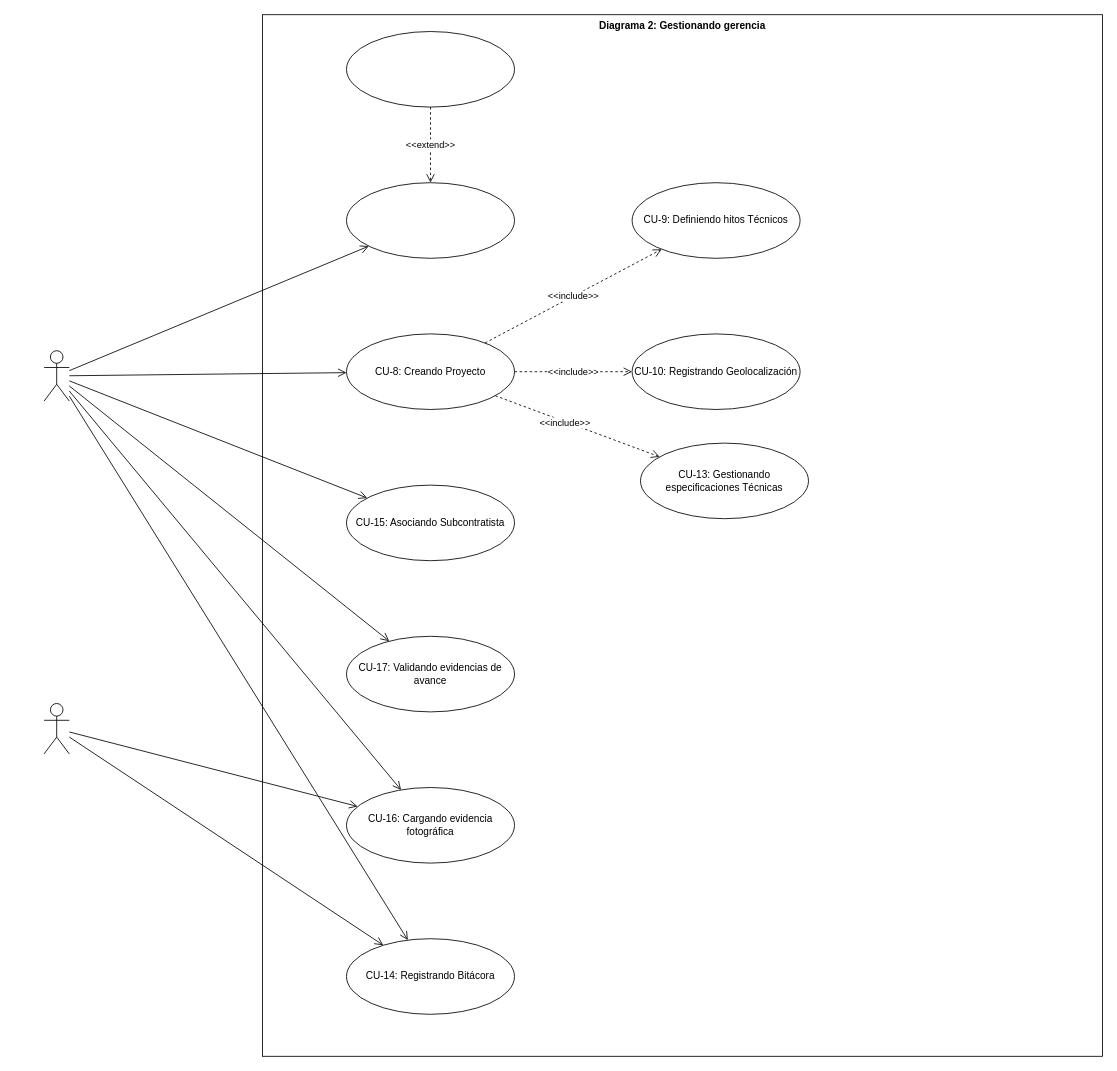
This 1117x1071 diagram has some shape labels left out. Here are the shapes that lost their labels. From the top down, the box of each, then its label:
(346, 31, 514, 107): CU-12: Registrando detención de proyecto
(346, 182, 514, 258): CU-11: Actualizando Estado
(43, 350, 69, 401): Administrador total
(43, 703, 69, 754): Supervisor de obra
